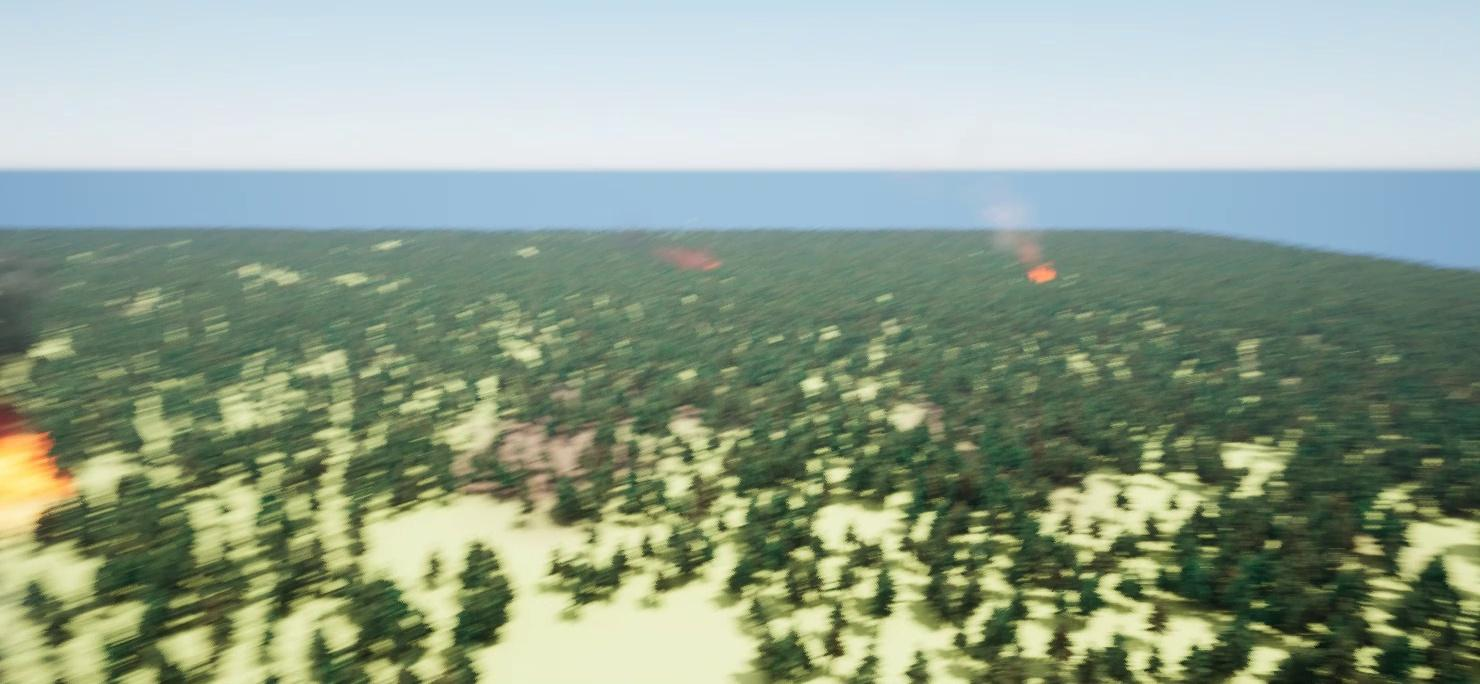fire: (0, 425, 79, 505), (1025, 264, 1062, 280)
smoke: (987, 198, 1049, 262), (664, 243, 725, 269)
